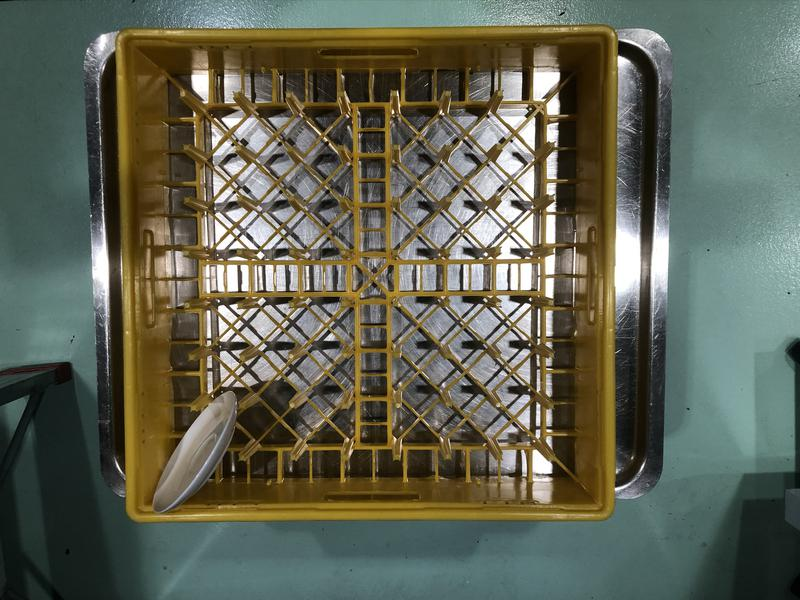Inclined_dish: (154, 391, 235, 511)
